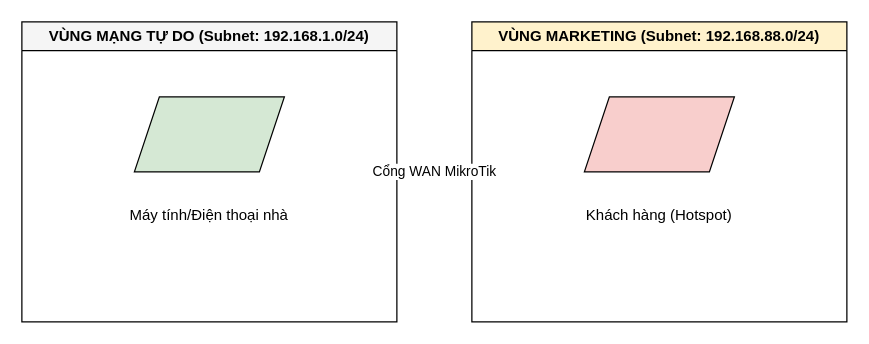
The diagram is 869 pixels wide and 344 high, and some of its shapes have lost their labels. Here are the shapes that lost their labels. From the top down, the centre of each, then its label:
the point at 208,134: WiFi: haha 5g
the point at 658,134: WiFi Marketing
